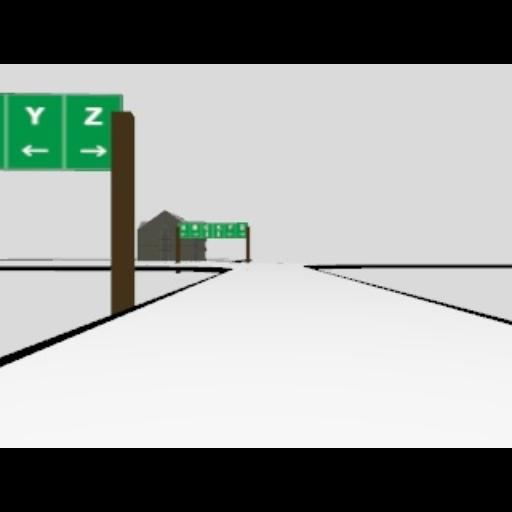Left: (21, 144, 51, 156)
Right: (78, 144, 108, 156)
Y: (24, 105, 48, 127)
Z: (84, 106, 104, 124)
